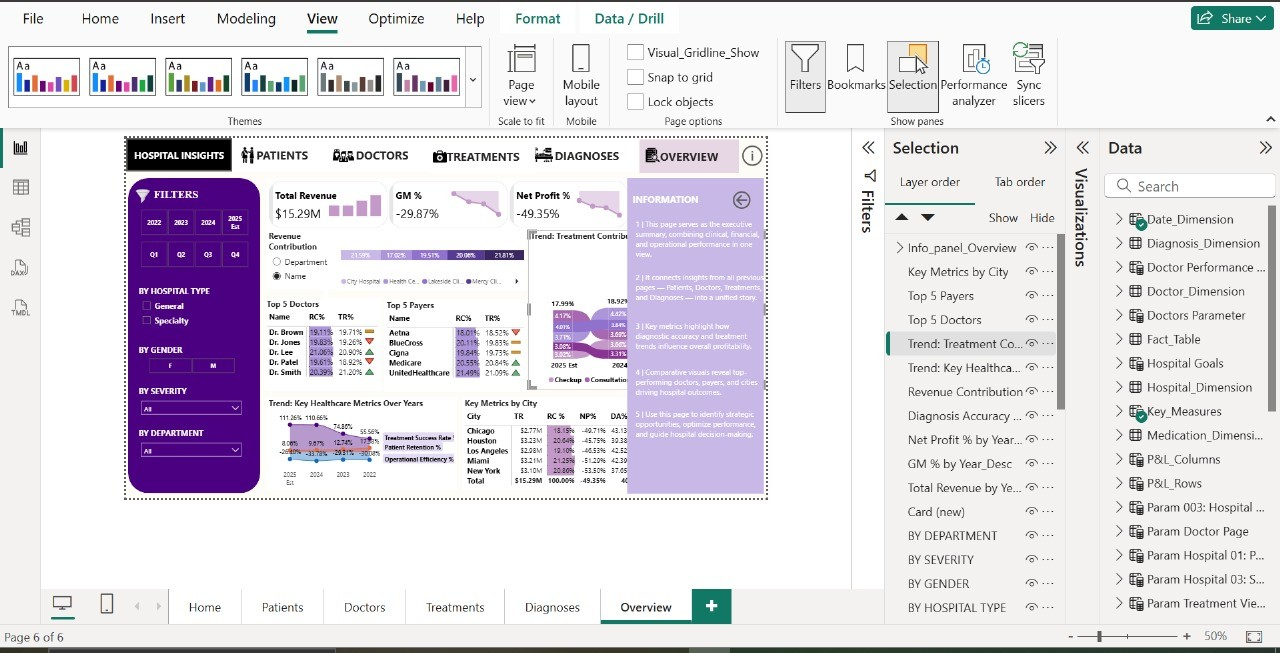

Layout of this report page (visuals, bound fields, positions):
{"tool":"powerbi","page":{"name":"Overview","canvas":[1280,720],"ordinal":5},"visuals":[{"type":"actionButton","box":[0,0,212,66.7],"z":0},{"type":"shape","box":[3.3,80,264,630],"z":0,"group":"g2"},{"type":"image","box":[13.3,96,38.3,40],"z":0,"group":"g1"},{"type":"group","id":"g1","title":"Group 2","box":[13.3,96,146,40],"z":1000,"group":"g2"},{"type":"textbox","title":"FILTERS","box":[50,99.3,110,31.7],"z":1000,"group":"g1"},{"type":"hundredPercentStackedBarChart","fields":{"Series":["Hospital_Dimension.Name"],"Y":["Key_Measures.Treatment Revenue %"]},"box":[424.7,184.5,377,120.9],"z":1000},{"type":"actionButton","title":"Home","box":[212.3,0,200,66.7],"z":2000},{"type":"textbox","box":[392.7,160,6.7,240],"z":2000,"group":"g2"},{"type":"actionButton","title":"Home","box":[412.3,0,200,66.7],"z":3000},{"type":"actionButton","title":"Home","box":[607.3,1.8,211.8,68.2],"z":4000},{"type":"textbox","box":[978.3,176.7,300,136.7],"z":5000},{"type":"actionButton","title":"Home","box":[818.6,0,207.1,68.6],"z":6000},{"type":"textbox","box":[976.7,301.7,300,220],"z":7000},{"type":"actionButton","title":"Home","box":[1026.4,1.9,200,67.9],"z":8000},{"type":"textbox","box":[980,495,300,81.7],"z":9000},{"type":"actionButton","box":[1226.4,7.5,52.8,54.7],"z":10000},{"type":"textbox","box":[980,568.3,300,143.3],"z":11000},{"type":"image","box":[1025.9,14.3,54.1,39.8],"z":12000},{"type":"image","box":[400,7.5,69.8,52.8],"z":13000},{"type":"image","box":[607.3,14.5,38.2,45.5],"z":14000},{"type":"image","box":[802,10,66,46],"z":15000},{"type":"image","box":[211.6,12.7,62,44.5],"z":16000},{"type":"group","id":"g2","title":"Group 3","box":[3.3,80,396.1,630],"z":17000},{"type":"slicer","fields":{"Values":["Date_Dimension.Year_Desc"]},"box":[3.8,135.8,264.2,64.2],"z":18000},{"type":"slicer","fields":{"Values":["Date_Dimension.Quarter"]},"box":[3.8,200,264.2,64.2],"z":19000},{"type":"slicer","title":"BY HOSPITAL TYPE","fields":{"Values":["hospital_dimension_2000.Type"]},"box":[20.8,294.3,228.3,100],"z":20000},{"type":"slicer","title":"BY GENDER","fields":{"Values":["Patient_Dimension.Gender"]},"box":[20.8,411.3,220.8,64.2],"z":21000},{"type":"slicer","title":"BY SEVERITY","fields":{"Values":["Diagnosis_dimension_2000.Severity"]},"box":[20.8,494.3,220.8,64.2],"z":22000},{"type":"slicer","title":"BY DEPARTMENT","fields":{"Values":["doctor_dimension_2000.Department"]},"box":[20.8,577.4,220.8,64.2],"z":23000},{"type":"cardVisual","fields":{"Data":["Key_Measures.Total Revenue","Fact_Table.GM %","Key_Measures.Net Profit %","Key_Measures.Diagnosis Accuracy %"]},"box":[279.9,79.5,973.5,105],"z":24000},{"type":"clusteredColumnChart","fields":{"Y":["Key_Measures.Total Revenue"],"Category":["Date_Dimension.Year_Desc"]},"box":[400.1,95.5,115.3,65.9],"z":25000},{"type":"areaChart","fields":{"Category":["Date_Dimension.Year_Desc"],"Y":["Fact_Table.GM %"]},"box":[638.9,92.2,123.5,70.8],"z":26000},{"type":"areaChart","fields":{"Category":["Date_Dimension.Year_Desc"],"Y":["Key_Measures.Net Profit %"]},"box":[890.8,92.2,112,72.5],"z":27000},{"type":"areaChart","fields":{"Category":["Date_Dimension.Year_Desc"],"Y":["Key_Measures.Diagnosis Accuracy %"]},"box":[1127.7,95.4,125.7,70],"z":28000},{"type":"slicer","title":"Revenue Contribution","fields":{"Values":["Param_Department_Hospital.Param_Department_Hospital"]},"box":[279.9,184.5,143.2,117.7],"z":29000},{"type":"areaChart","title":"Trend: Key Healthcare Metrics Over Years","fields":{"Category":["Date_Dimension.Year_Desc"],"Y":["Key_Measures.Operational Efficiency %","Key_Measures.Treatment Success Rate %","Key_Measures.Patient Retention %"]},"box":[279.1,517.1,381.1,186.1],"z":30000},{"type":"ribbonChart","title":"Trend: Treatment Contribution Over Years","fields":{"Y":["Key_Measures.Revenue Contribution %"],"Category":["Date_Dimension.Year_Desc"],"Series":["Treatment_Dimension.Treatment_Type"]},"box":[803.3,184.5,477.2,318.1],"z":31000},{"type":"pivotTable","title":"Top 5 Doctors","fields":{"Rows":["Doctor_Dimension.Name"],"Values":["Key_Measures.Revenue Contribution % (All Doctors)","Key_Measures.Treatment Revenue %"]},"box":[276.8,319.7,235.4,186.1],"z":32000},{"type":"pivotTable","title":"Top 5 Payers","fields":{"Rows":["Payer_Dimension.Payer_Name"],"Values":["Key_Measures.Revenue Contribution % (All Payers)","Key_Measures.Treatment Revenue %"]},"box":[516.9,321.3,284.7,186.1],"z":33000},{"type":"pivotTable","title":"Key Metrics by City","fields":{"Rows":["Hospital_Dimension.City"],"Values":["Key_Measures.Total Revenue","Key_Measures.Revenue Contribution %","Key_Measures.Net Profit %","Key_Measures.Diagnosis Accuracy %","Key_Measures.Net Diagnostic Cost Error %","Key_Measures.Risk Code","Key_Measures.Hospital Market Share %"]},"box":[672.8,517.1,606.6,186.1],"z":34000}]}

Visuals, with their boxes on the page's 1280x720 design canvas (x1, y1, x2, y2). These are canvas units, not pixel positions in the 1280x653 screenshot, which may show the page scaled, cropped or inside an application window:
actionButton: box(0, 0, 212, 67)
shape: box(3, 80, 267, 710)
image: box(13, 96, 52, 136)
"Group 2" group: box(13, 96, 159, 136)
"FILTERS" textbox: box(50, 99, 160, 131)
hundredPercentStackedBarChart - Hospital_Dimension.Name x Key_Measures.Treatment Revenue %: box(425, 184, 802, 305)
"Home" actionButton: box(212, 0, 412, 67)
textbox: box(393, 160, 399, 400)
"Home" actionButton: box(412, 0, 612, 67)
"Home" actionButton: box(607, 2, 819, 70)
textbox: box(978, 177, 1278, 313)
"Home" actionButton: box(819, 0, 1026, 69)
textbox: box(977, 302, 1277, 522)
"Home" actionButton: box(1026, 2, 1226, 70)
textbox: box(980, 495, 1280, 577)
actionButton: box(1226, 8, 1279, 62)
textbox: box(980, 568, 1280, 712)
image: box(1026, 14, 1080, 54)
image: box(400, 8, 470, 60)
image: box(607, 14, 646, 60)
image: box(802, 10, 868, 56)
image: box(212, 13, 274, 57)
"Group 3" group: box(3, 80, 399, 710)
slicer - Date_Dimension.Year_Desc: box(4, 136, 268, 200)
slicer - Date_Dimension.Quarter: box(4, 200, 268, 264)
"BY HOSPITAL TYPE" slicer: box(21, 294, 249, 394)
"BY GENDER" slicer: box(21, 411, 242, 476)
"BY SEVERITY" slicer: box(21, 494, 242, 558)
"BY DEPARTMENT" slicer: box(21, 577, 242, 642)
cardVisual - Key_Measures.Total Revenue x Fact_Table.GM %: box(280, 80, 1253, 184)
clusteredColumnChart - Key_Measures.Total Revenue x Date_Dimension.Year_Desc: box(400, 96, 515, 161)
areaChart - Date_Dimension.Year_Desc x Fact_Table.GM %: box(639, 92, 762, 163)
areaChart - Date_Dimension.Year_Desc x Key_Measures.Net Profit %: box(891, 92, 1003, 165)
areaChart - Date_Dimension.Year_Desc x Key_Measures.Diagnosis Accuracy %: box(1128, 95, 1253, 165)
"Revenue Contribution" slicer: box(280, 184, 423, 302)
"Trend: Key Healthcare Metrics Over Years" areaChart: box(279, 517, 660, 703)
"Trend: Treatment Contribution Over Years" ribbonChart: box(803, 184, 1280, 503)
"Top 5 Doctors" pivotTable: box(277, 320, 512, 506)
"Top 5 Payers" pivotTable: box(517, 321, 802, 507)
"Key Metrics by City" pivotTable: box(673, 517, 1279, 703)
